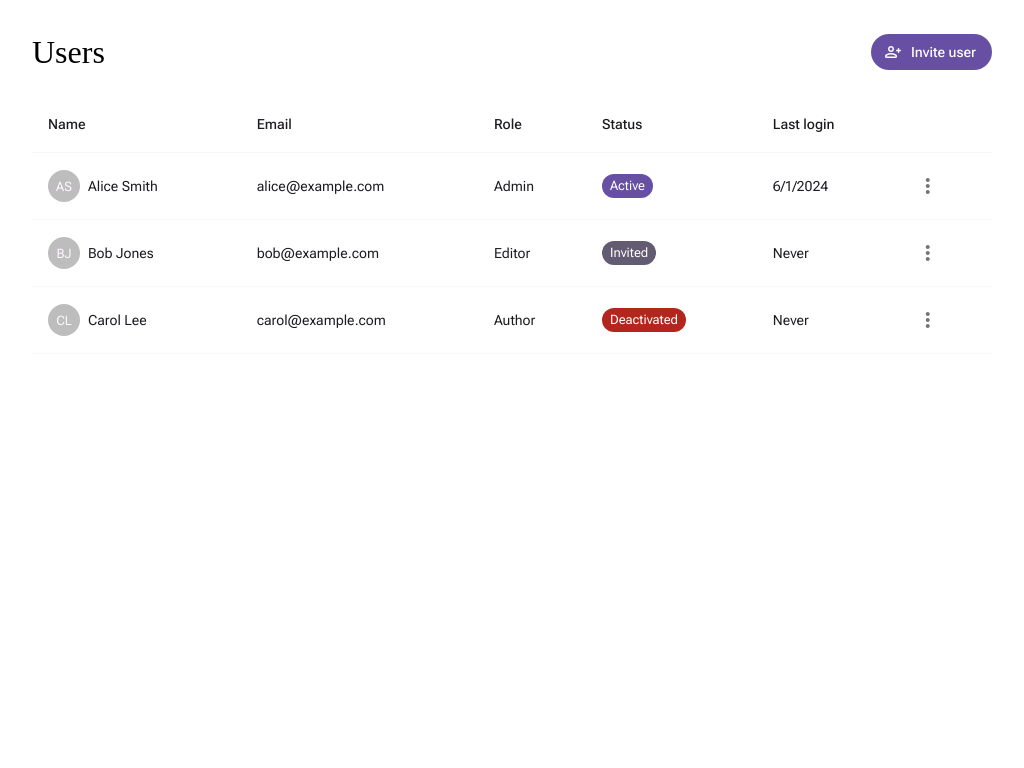
Test: UsersPage › opens invite dialog when invite button is clicked
Click the button "Invite user". click: (932, 52)
box: [871, 34, 992, 70]
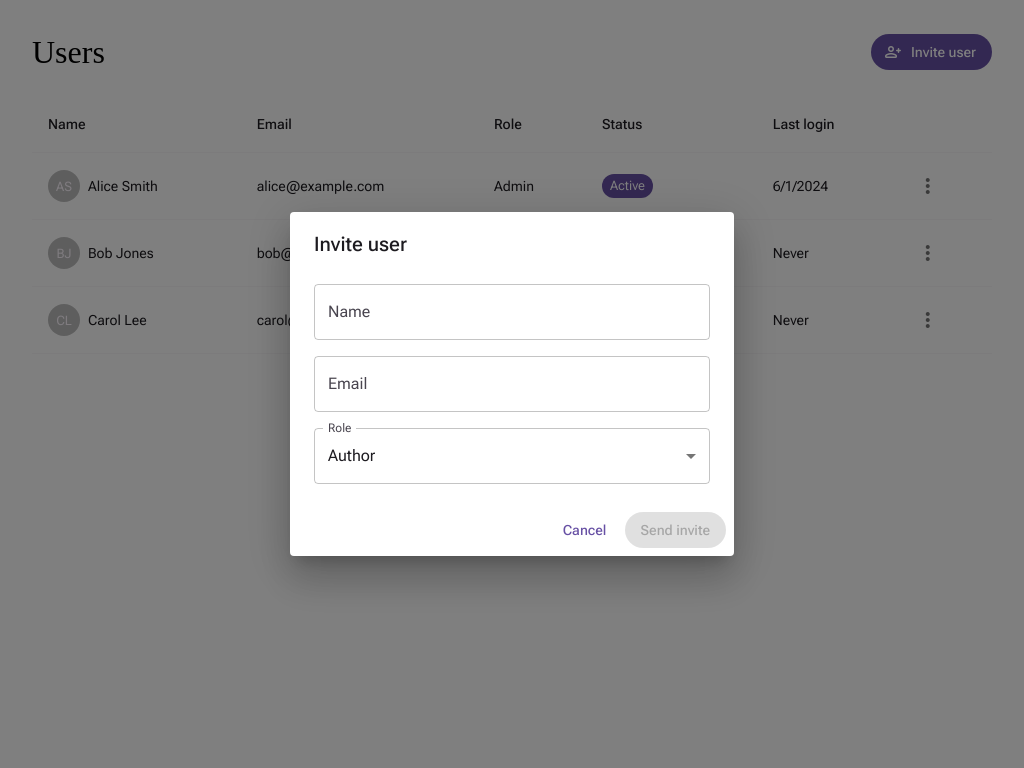
Check: the dialog is shown, box [290, 212, 734, 556]
Check: the heading "Invite user" is shown, box [314, 232, 407, 256]
